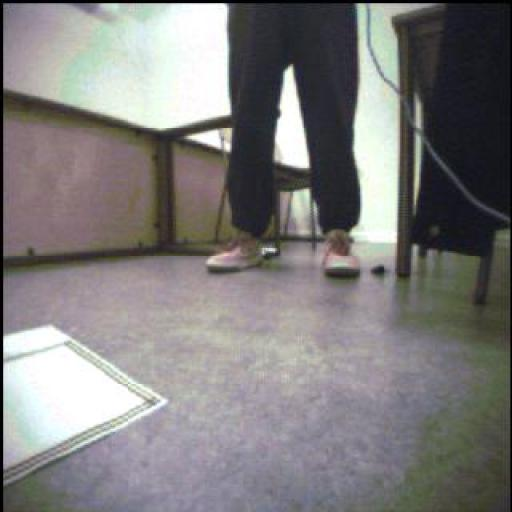Pad: (3, 320, 158, 482)
